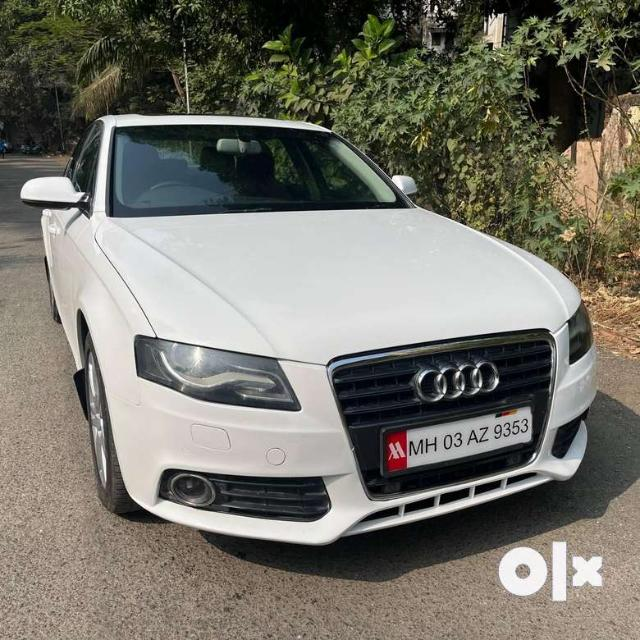Indian_Number_Plate: (384, 401, 532, 477)
